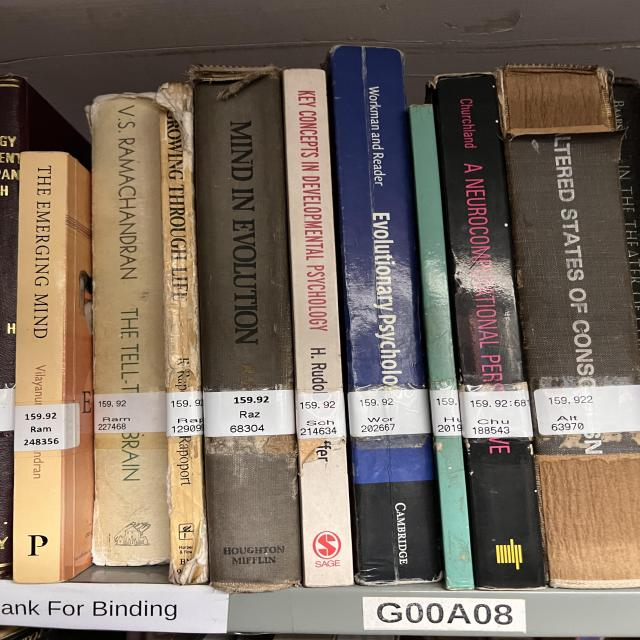Book: (505, 129, 640, 589), (328, 46, 442, 585), (432, 74, 545, 590), (192, 66, 302, 592), (0, 74, 90, 578), (92, 96, 170, 566), (283, 69, 353, 588), (13, 151, 93, 582), (408, 105, 473, 590), (157, 84, 208, 585)
Label: (533, 385, 640, 435), (203, 390, 295, 438), (348, 389, 432, 438), (458, 390, 533, 438), (93, 391, 167, 434), (13, 404, 80, 451), (297, 391, 347, 439), (167, 391, 203, 438), (430, 390, 462, 436)
